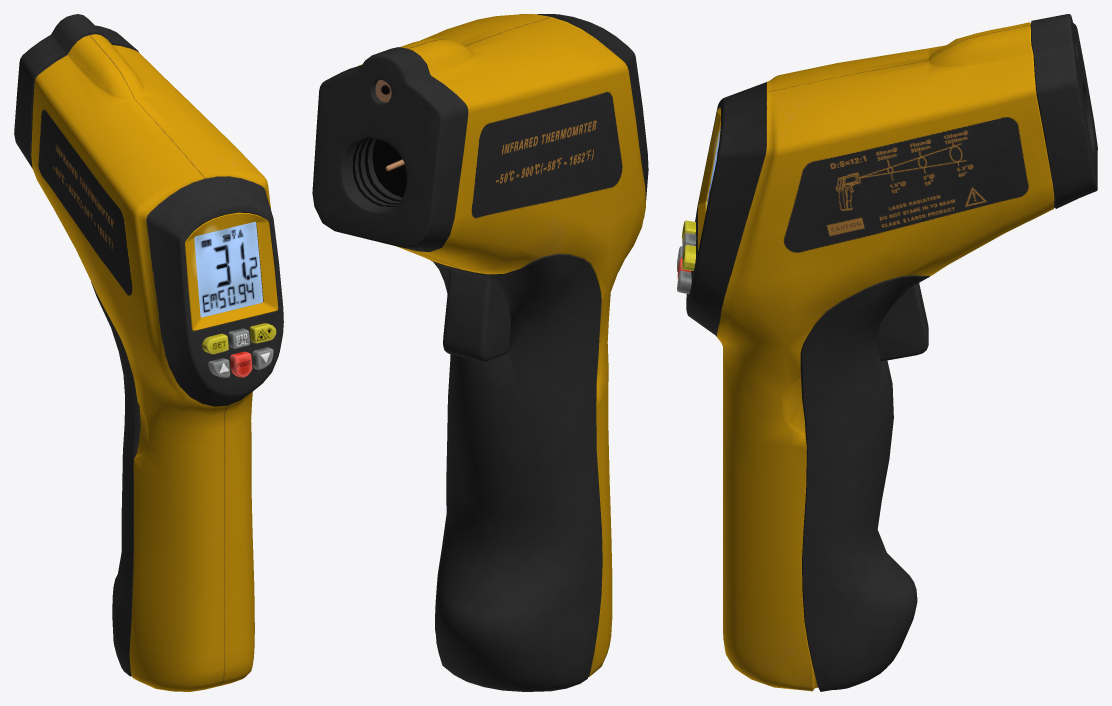
File: Thermometer.fbx
3 views of the same model, side by side, from view 1: azimuth 30°, elevation 25°; view 2: azimuth 150°, elevation 25°; view 3: azimuth 270°, elevation 25° (orthographic). The views are drawn at different scales.
Parts seen in each view (by area): view 1: Infrared_thermometer; view 2: Infrared_thermometer; view 3: Infrared_thermometer.
Boxes of the visible parts, box(x1,y1,x2,y2) form: Infrared_thermometer: box(14, 14, 283, 691); Infrared_thermometer: box(312, 14, 648, 691); Infrared_thermometer: box(677, 14, 1097, 691).
Bounding box in the file's own units: 4.9 × 19.97 × 11.77.
